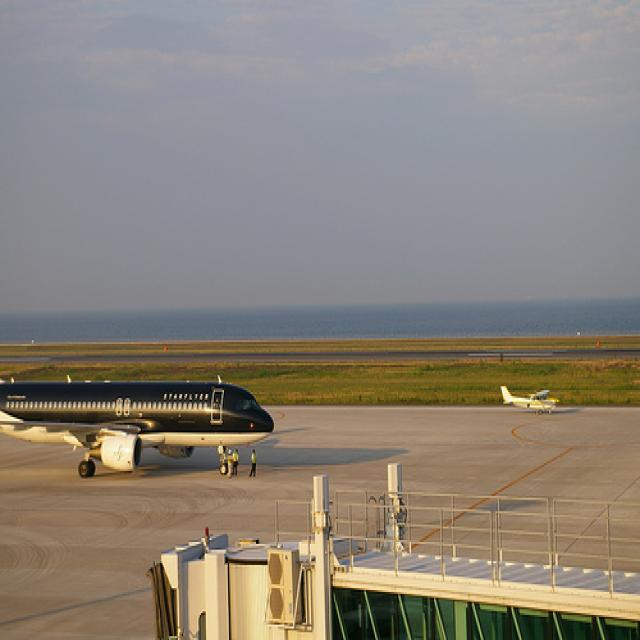aeroplane: (3, 376, 278, 481), (502, 380, 562, 422)
